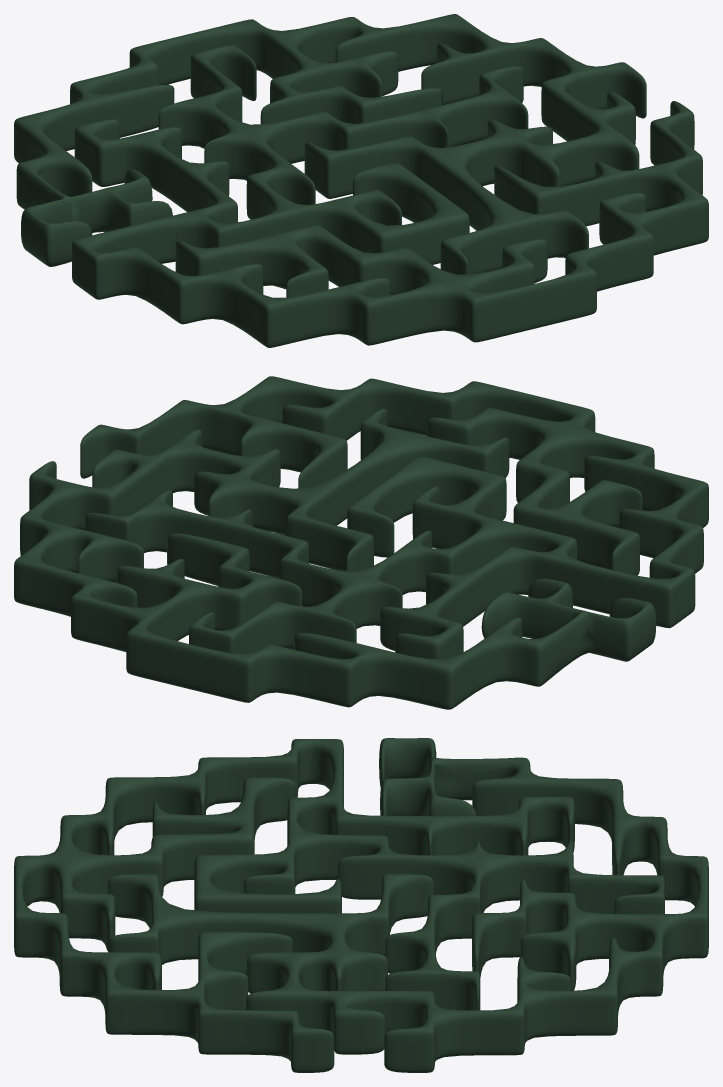
The model's file is maze.fbx.
3 views of the same model, one above another, from view 1: azimuth 30°, elevation 25°; view 2: azimuth 150°, elevation 25°; view 3: azimuth 270°, elevation 25° (orthographic).
Parts seen in each view (by area): view 1: Cube; view 2: Cube; view 3: Cube.
Boxes of the visible parts, <box> form: Cube: <box>14,14,708,347</box>; Cube: <box>14,376,708,709</box>; Cube: <box>14,738,708,1072</box>.
Size of the model in its own units: 2832 by 199 by 2814.
